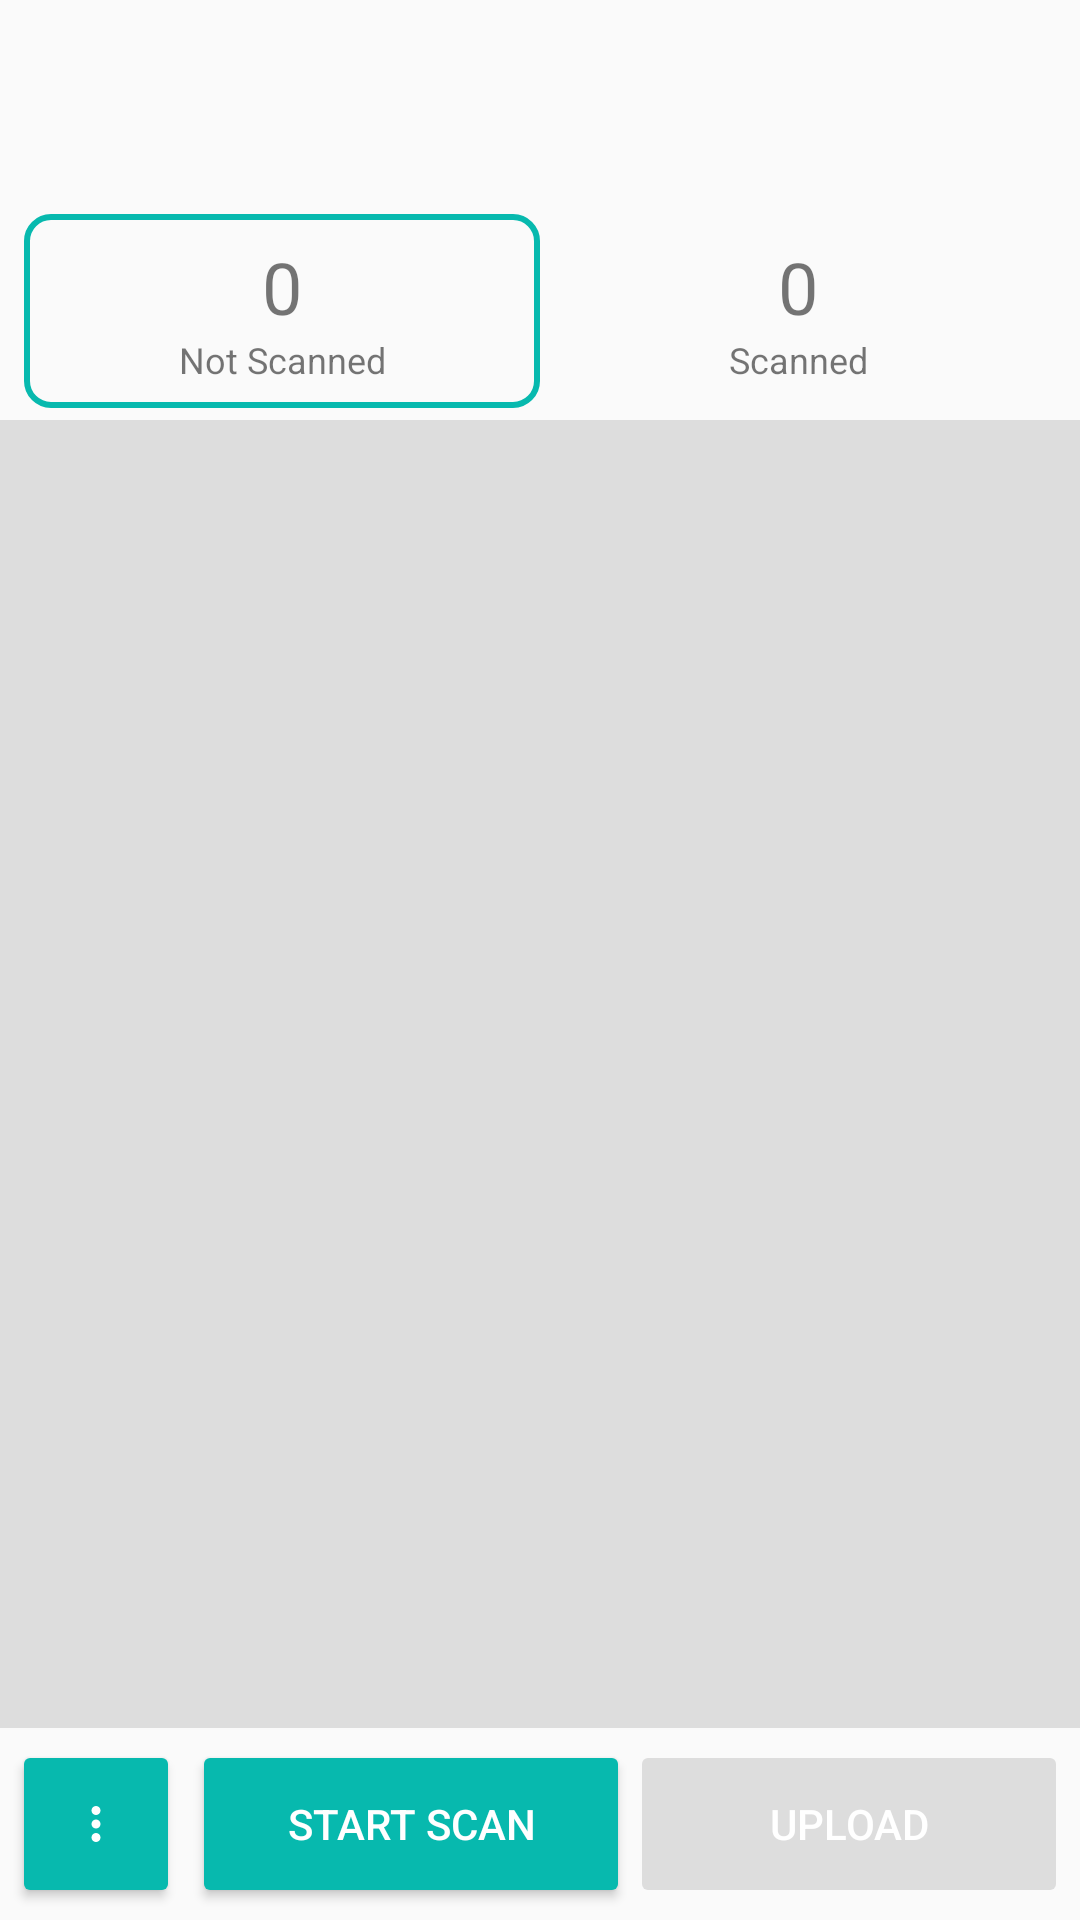

Icon click points for this 1080px×1920px phone screenshot, format point (x, y):
more vert: point (95, 1827)
